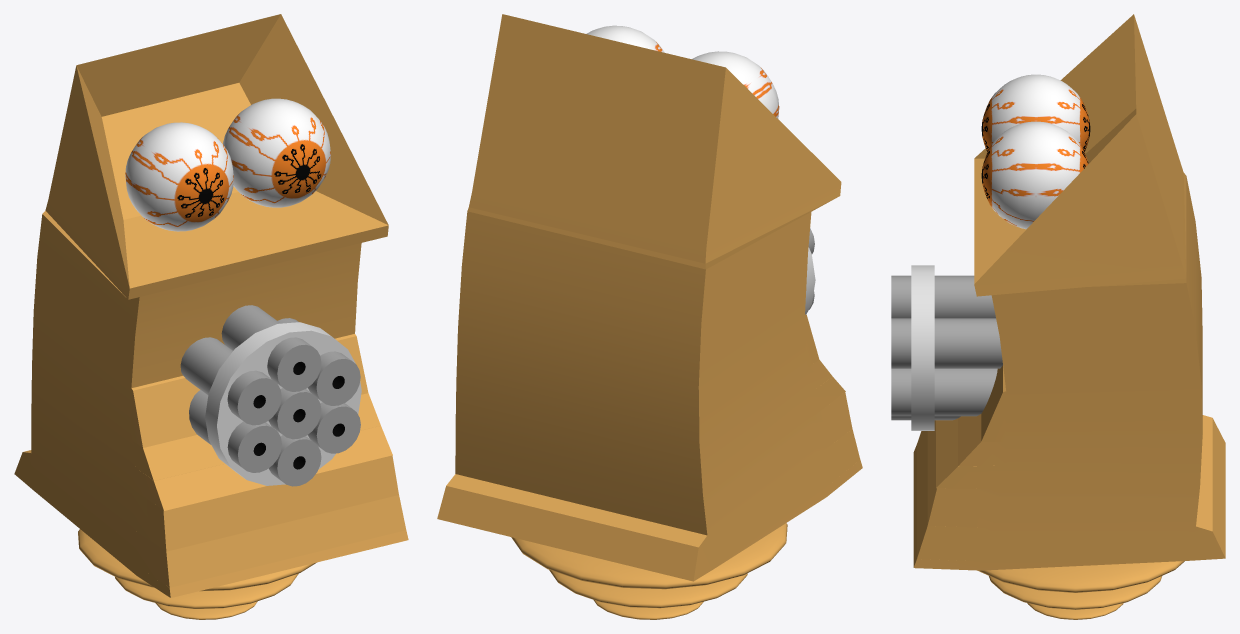
File: OrangeDoubleCombined.fbx
3 renders of one model, left to right at view 1: azimuth 30°, elevation 25°; view 2: azimuth 150°, elevation 25°; view 3: azimuth 270°, elevation 25°, orthographic. The views are drawn at different scales.
Visible parts, largest first — view 1: polySurface7; view 2: polySurface7; view 3: polySurface7.
Part boxes in pixels (x1,y1,x2,y2): polySurface7: (14,14,408,619); polySurface7: (437,14,862,619); polySurface7: (891,14,1225,619).
Bounding box in the file's own units: 2.56 × 5.11 × 2.87.
5 materials, 1 textured.
